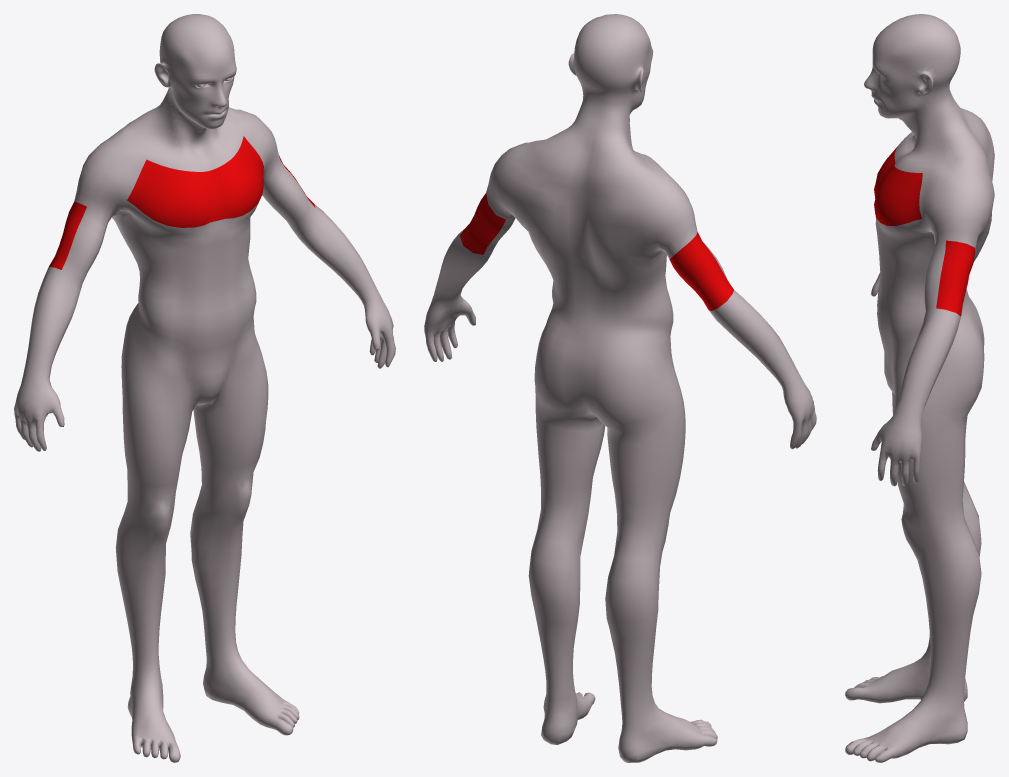
The model's file is human_muscle_pushup.glb.
The picture shows the model from 3 angles, left to right: view 1: azimuth 30°, elevation 25°; view 2: azimuth 150°, elevation 25°; view 3: azimuth 270°, elevation 25°; orthographic projection. The views are drawn at different scales.
Visible parts, largest first — view 1: Object_2; view 2: Object_2; view 3: Object_2.
Boxes of the visible parts, box(x1,y1,x2,y2) form: Object_2: box(14, 14, 395, 762); Object_2: box(424, 14, 816, 762); Object_2: box(845, 14, 994, 762).
Bounding box in the file's own units: 1.08 × 1.96 × 0.3749.
